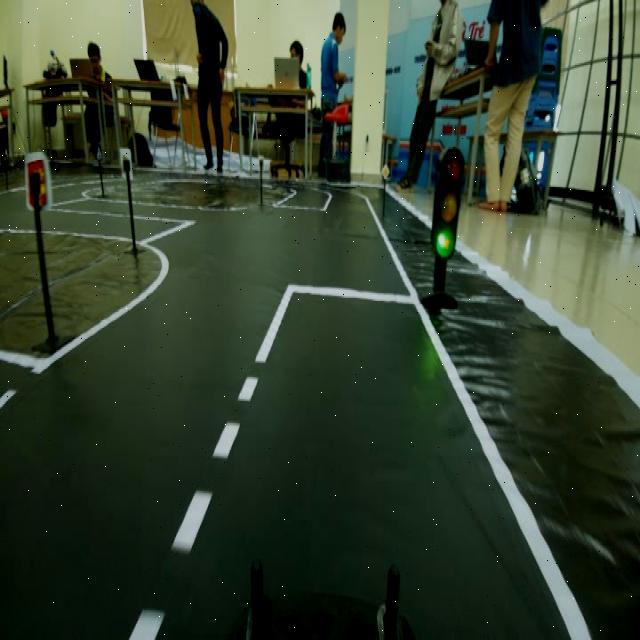trafficlight: (428, 140, 468, 270)
